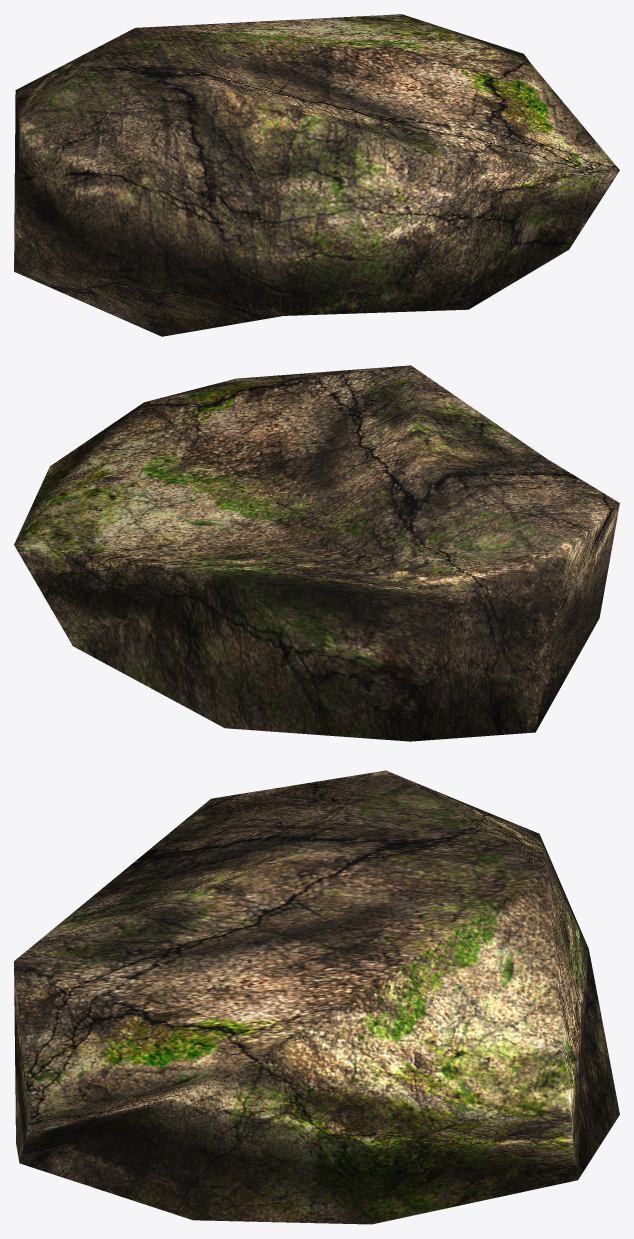
File: rock_011_LOD1.obj
3 renders of one model, top to bottom at view 1: azimuth 30°, elevation 25°; view 2: azimuth 150°, elevation 25°; view 3: azimuth 270°, elevation 25°, orthographic. The views are drawn at different scales.
Visible parts, largest first — view 1: rock_011_LOD1; view 2: rock_011_LOD1; view 3: rock_011_LOD1.
Part boxes in pixels (x1,y1,x2,y2): rock_011_LOD1: (14,14,619,336); rock_011_LOD1: (14,365,619,741); rock_011_LOD1: (14,770,619,1224).
Size of the model in its own units: 455 by 196 by 381.
1 material, 1 textured.
